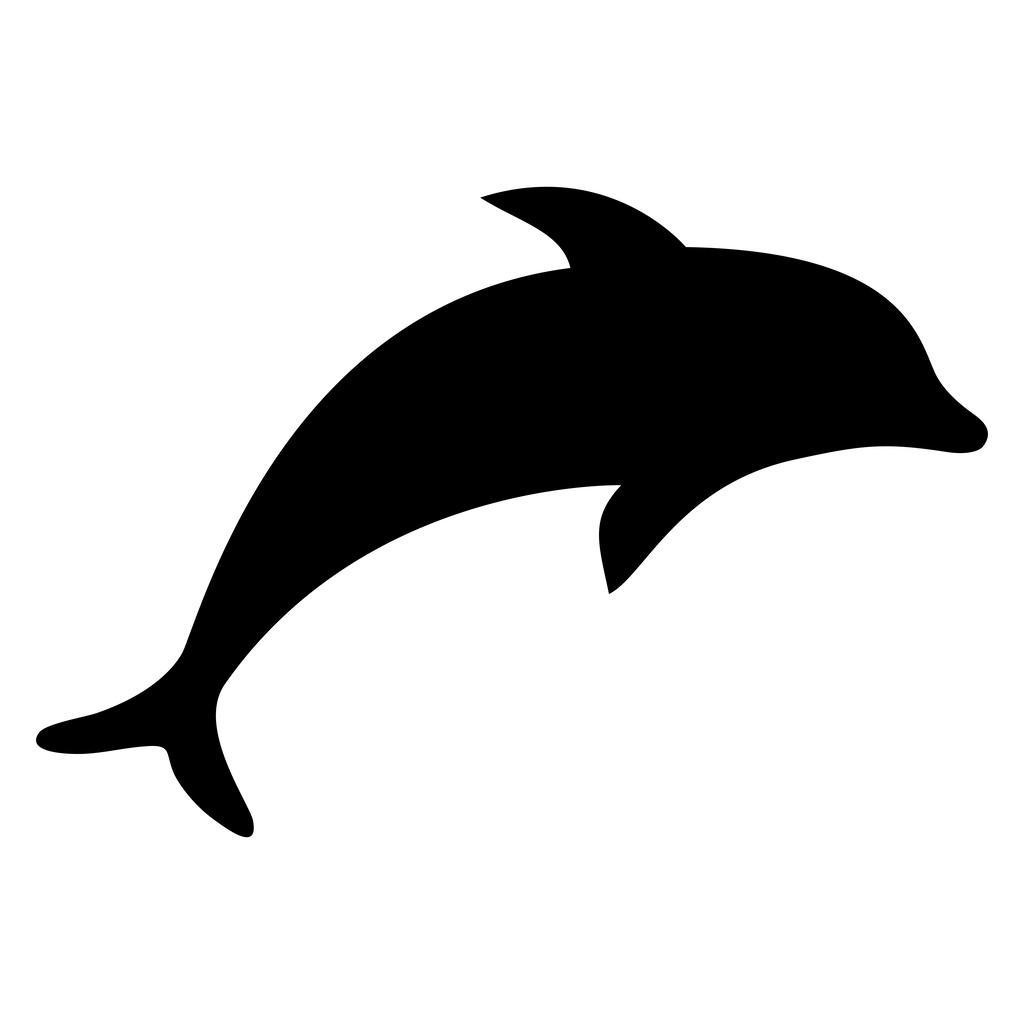fish: (36, 183, 992, 840)
